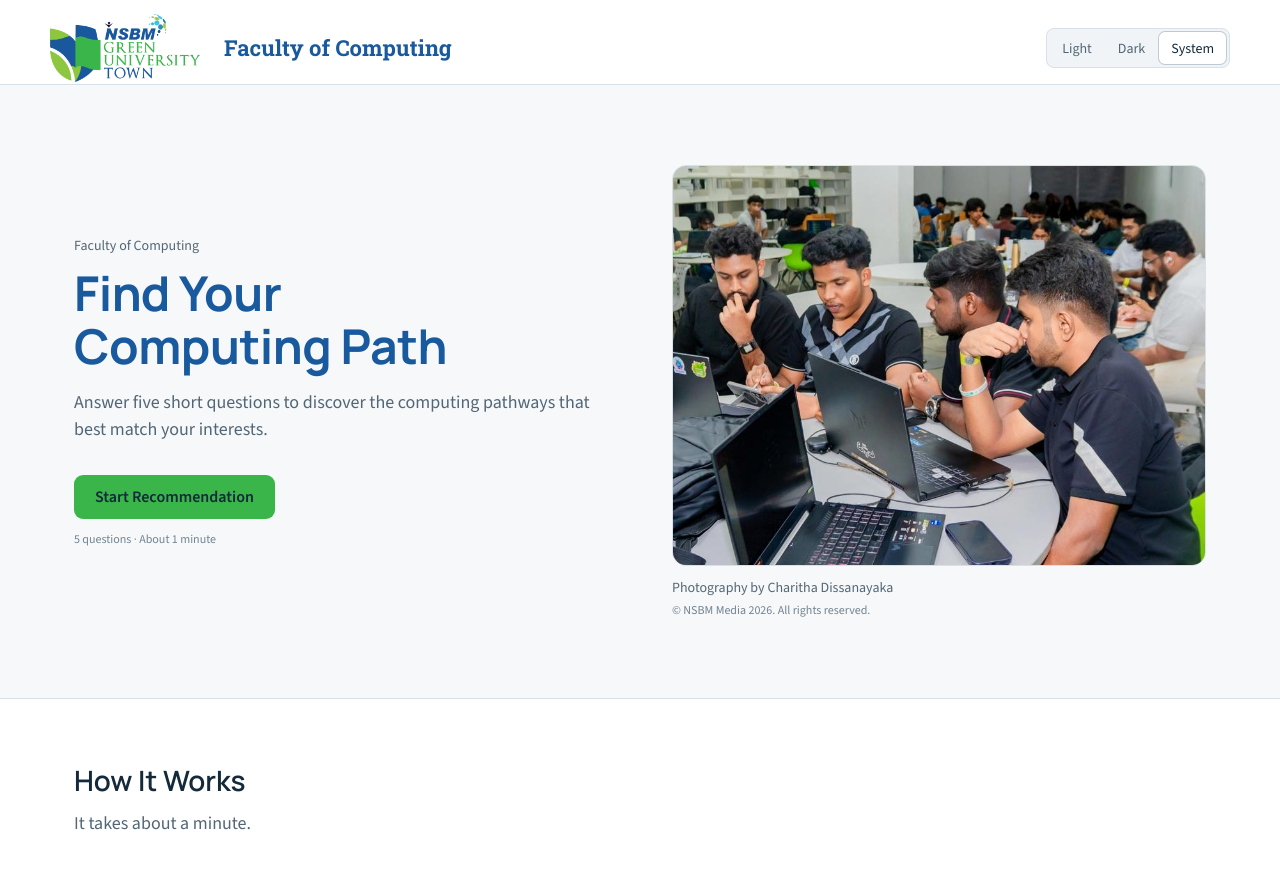
Test: landing page › starts a fresh recommendation, clearing earlier answers
Step 1. Click the button "Start Recommendation" → (174, 497), box [74,475,275,519]
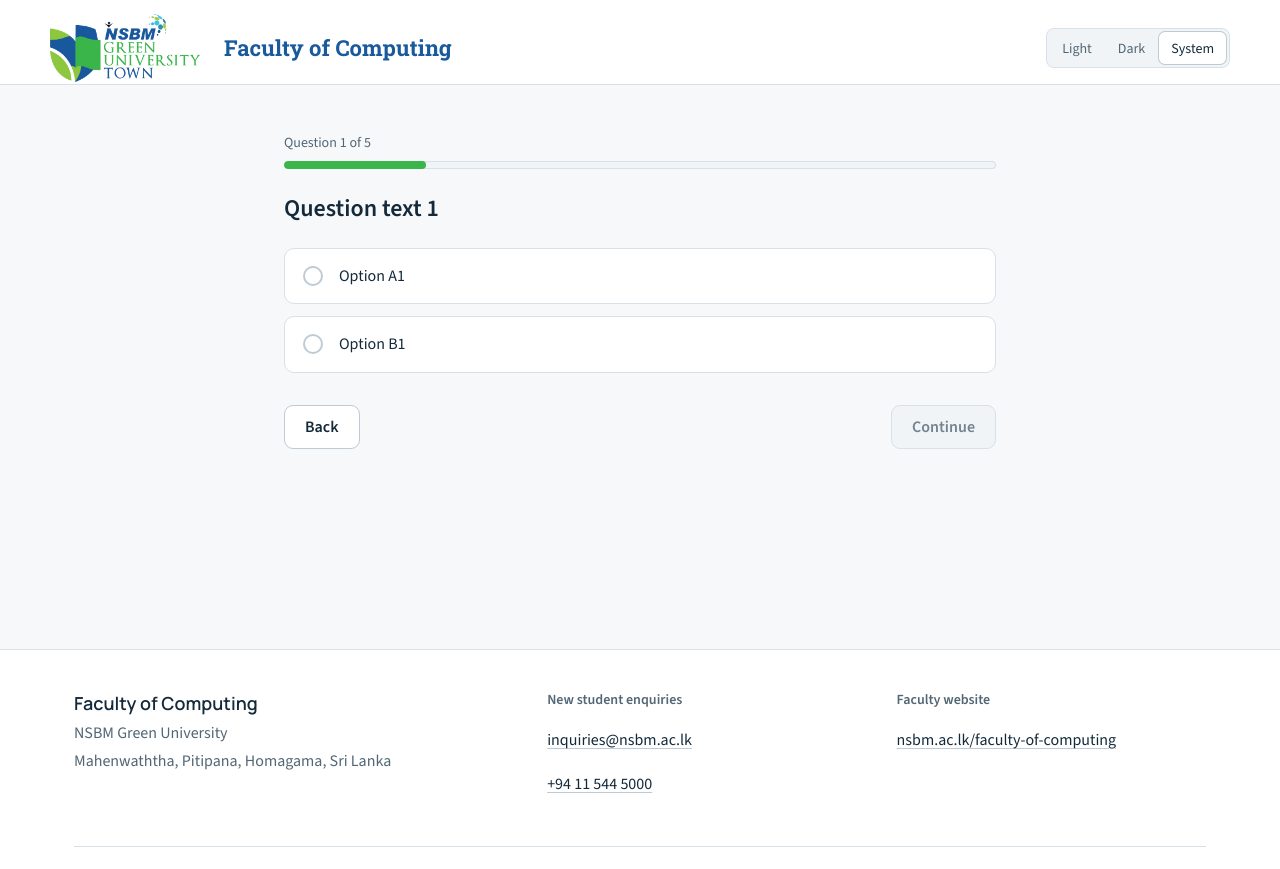
Expected: the heading "Question text 1" is shown, [284,192,439,224]
Expected: the radio button labelled "Option B1" is not checked, [284,316,996,373]
